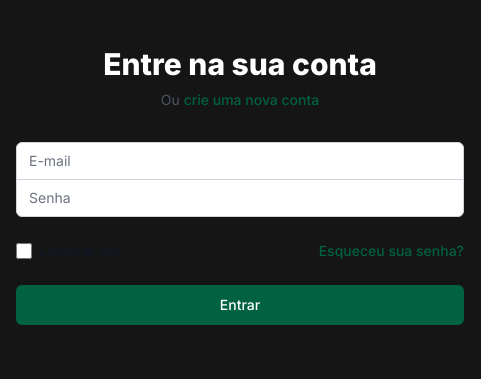
Scenario: LoginPage › displays error message on login failure
The width and height of the screenshot is (481, 379).
Type "test@example.com" into the field with placeholder "E-mail" at (240,160), box [16,142,464,180]
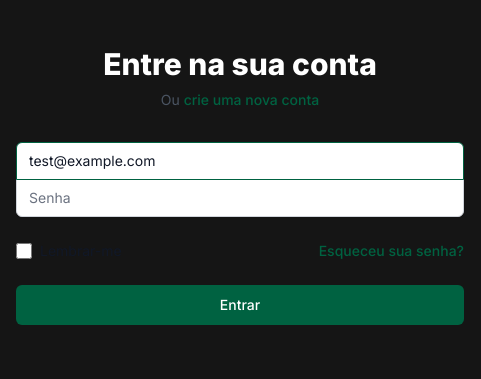
Type "wrongpassword" into the password field with placeholder "Senha" at (240,198), box [16,178,464,216]
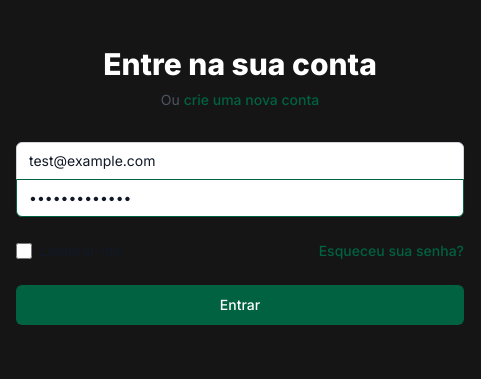
Click the button "Entrar" at (240,304), box [16,284,464,324]
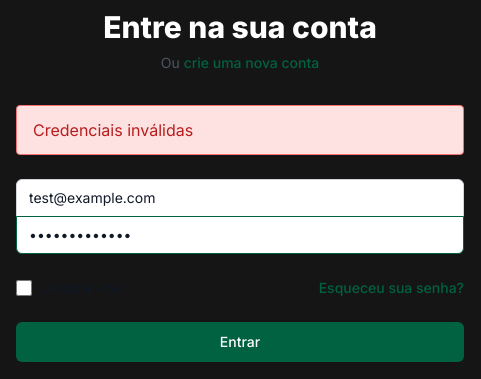
Expected: the text "Credenciais inválidas" is shown, [33,120,193,140]
